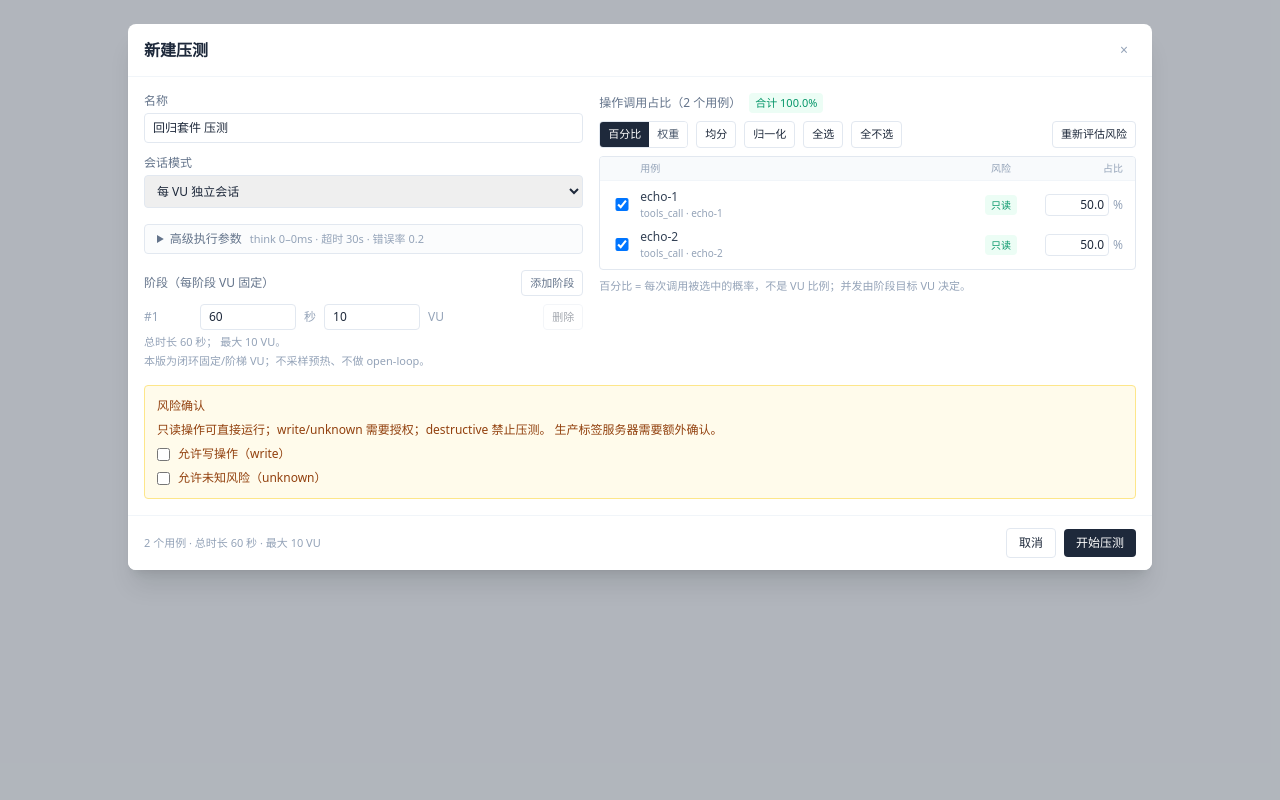
ProfileDialog 操作调用占比 › 合计不为 100.0% 时禁用开始，归一化恢复
Check: the button "开始压测" is enabled, box [1064,529,1136,557]
Replace the text in the field named "用例 echo-1 的占比" with "70" at (1077, 204), box [1045,194,1109,216]
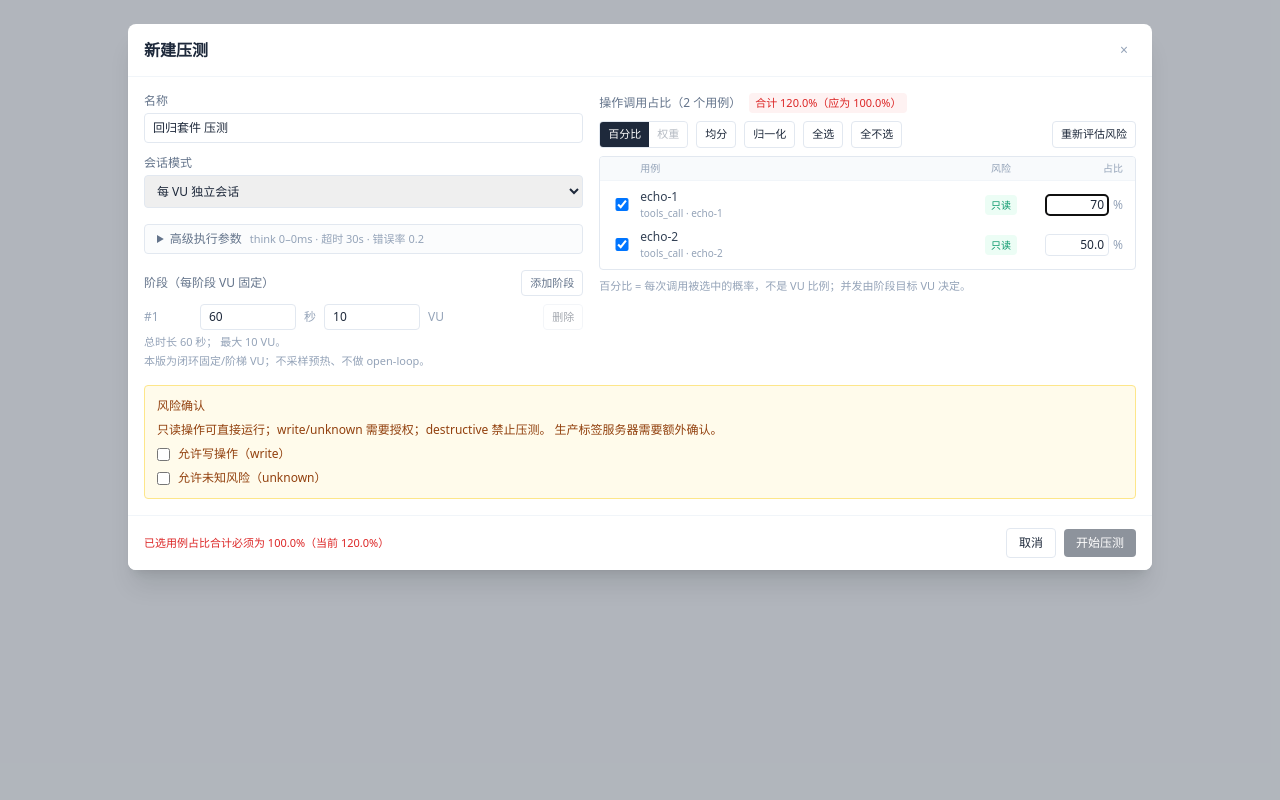
Check: the button "开始压测" is disabled, box [1064,529,1136,557]
Check: the text "合计 120.0%（应为 100.0%）" is shown, box [749,93,908,113]
Check: the text "已选用例占比合计必须为 100.0%（当前 120.0%）" is shown, box [144,535,389,551]
Click the button "归一化" at (770, 134), box [744,121,795,148]
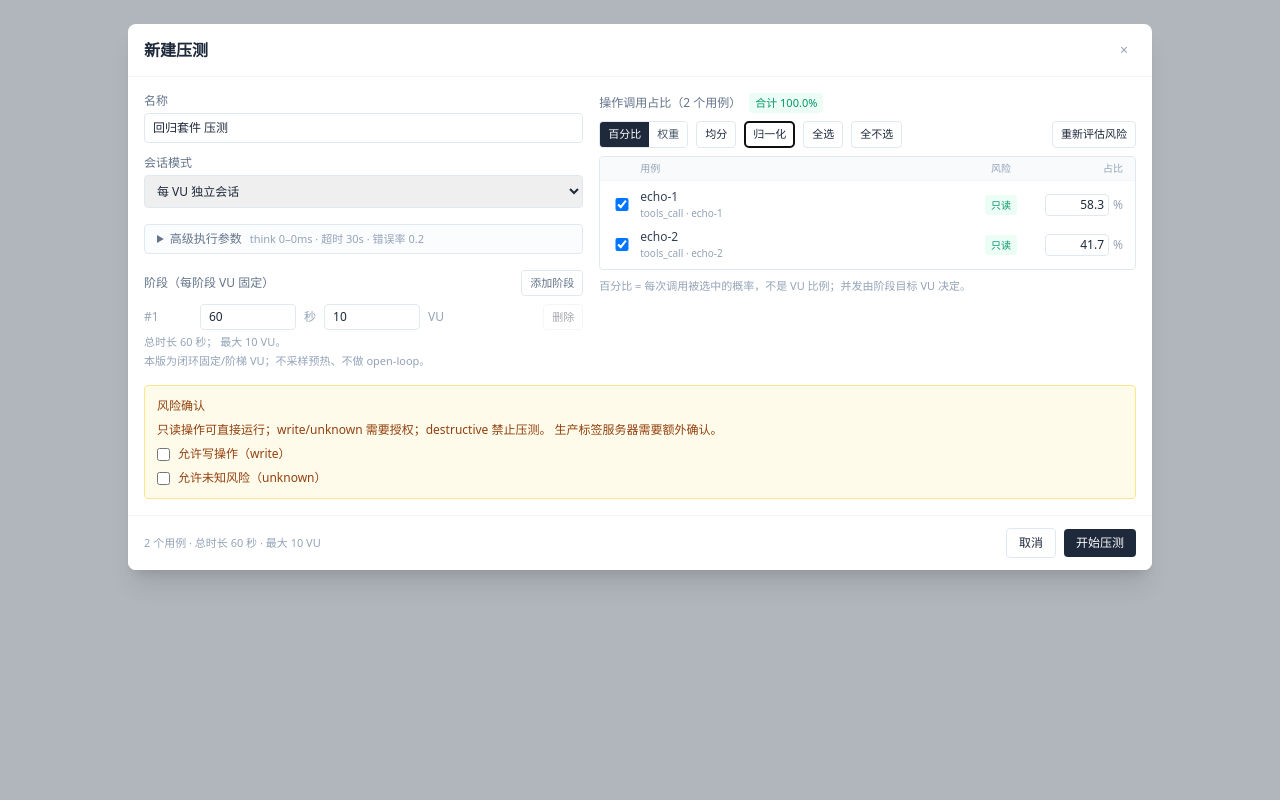
Check: the field named "用例 echo-1 的占比" holds "58.3", box [1045,194,1109,216]
Check: the button "开始压测" is enabled, box [1064,529,1136,557]
